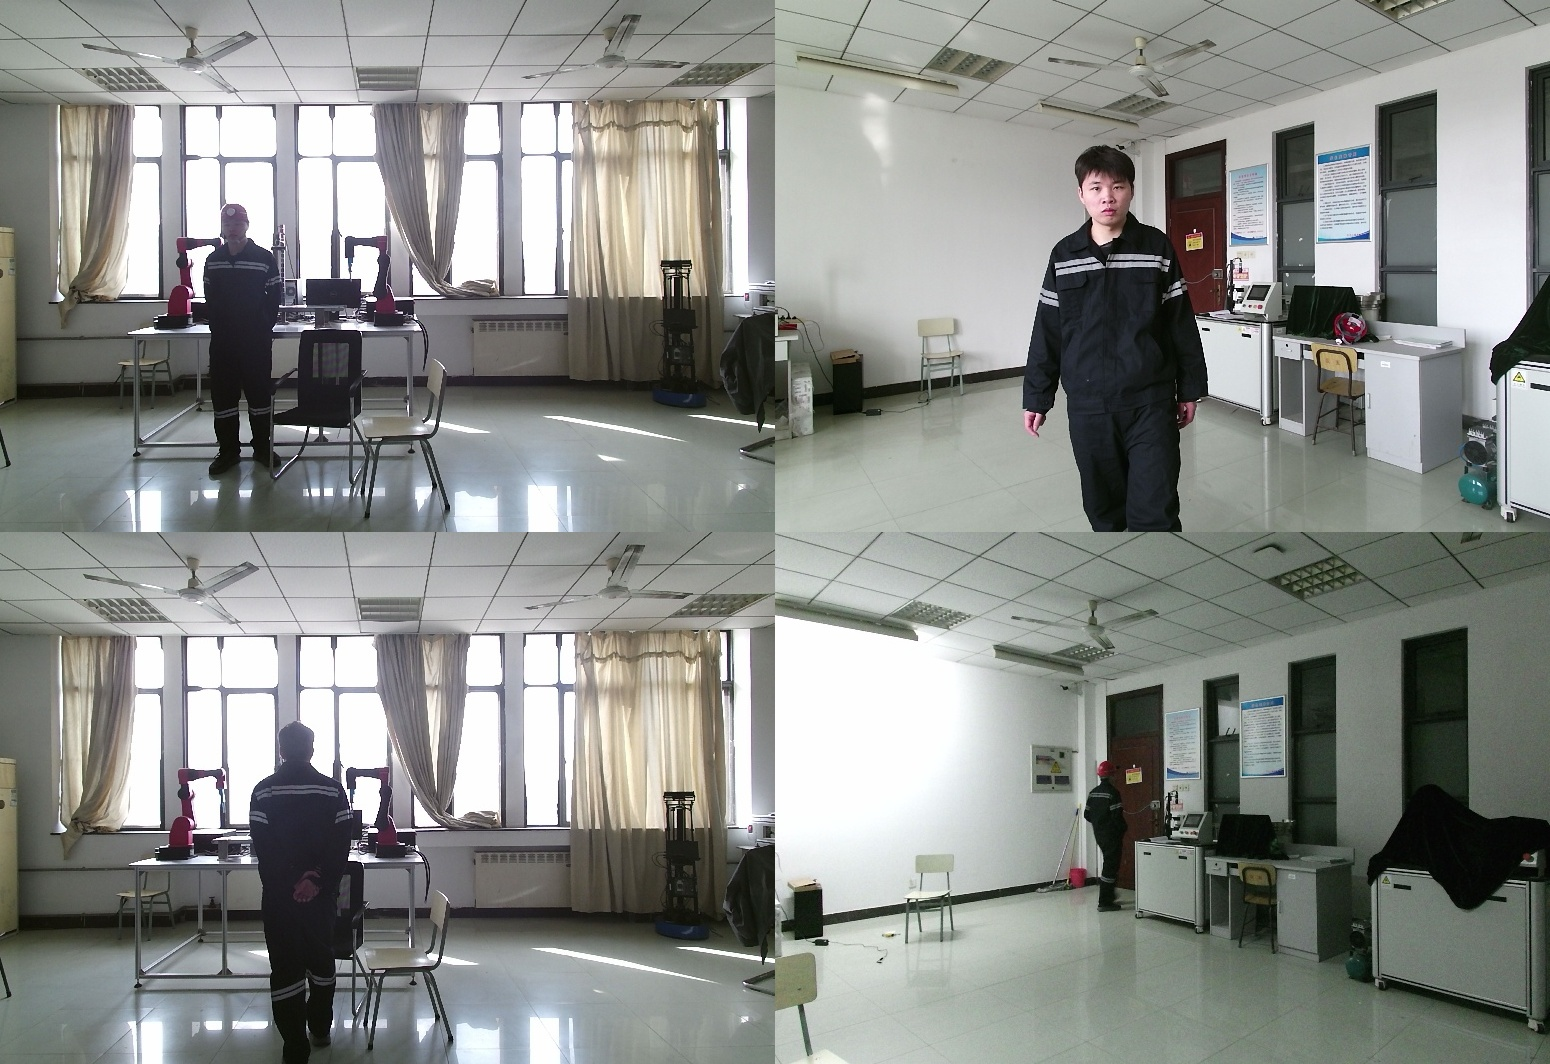person: (1023, 146, 1223, 532), (246, 724, 355, 1064), (204, 205, 289, 478), (1076, 760, 1129, 917)
